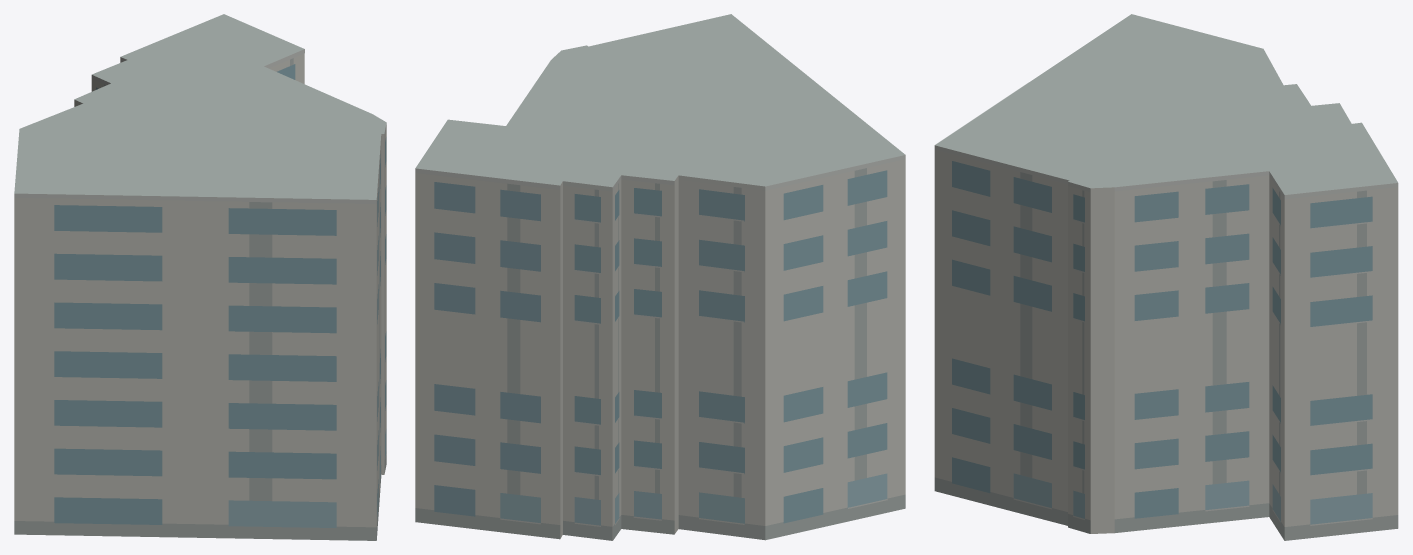
File: survey-upis-32957591.glb
The picture shows the model from 3 angles, left to right: view 1: azimuth 30°, elevation 25°; view 2: azimuth 150°, elevation 25°; view 3: azimuth 270°, elevation 25°; orthographic projection. The views are drawn at different scales.
Parts seen in each view (by area): view 1: survey-upis-32957591.tmp; view 2: survey-upis-32957591.tmp; view 3: survey-upis-32957591.tmp.
Part boxes in pixels (x1,y1,x2,y2): survey-upis-32957591.tmp: (14, 14, 386, 540); survey-upis-32957591.tmp: (415, 14, 905, 540); survey-upis-32957591.tmp: (934, 14, 1398, 540).
Size of the model in its own units: 21.97 by 19.55 by 23.78.
